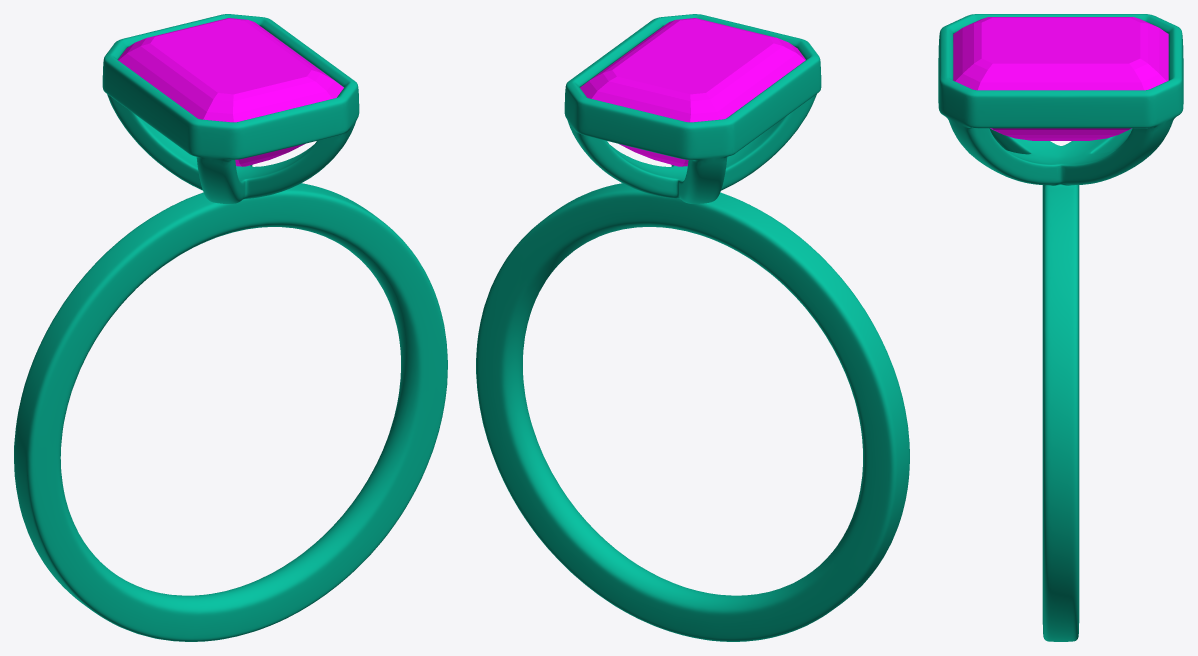
Rendered from BE1808_EM_200ct_RENDER.glb.
The picture shows the model from 3 angles, left to right: view 1: azimuth 30°, elevation 25°; view 2: azimuth 150°, elevation 25°; view 3: azimuth 270°, elevation 25°; orthographic projection.
Parts seen in each view (by area): view 1: Metal 01, CS_Diamond_Emerald; view 2: Metal 01, CS_Diamond_Emerald; view 3: Metal 01, CS_Diamond_Emerald.
Part boxes in pixels (<box>): Metal 01: <box>14,14,447,641</box>; CS_Diamond_Emerald: <box>118,18,343,166</box>; Metal 01: <box>476,14,909,641</box>; CS_Diamond_Emerald: <box>580,18,805,166</box>; Metal 01: <box>938,14,1183,641</box>; CS_Diamond_Emerald: <box>953,17,1168,140</box>.
Size of the model in its own units: 20.11 by 26.24 by 10.07.
